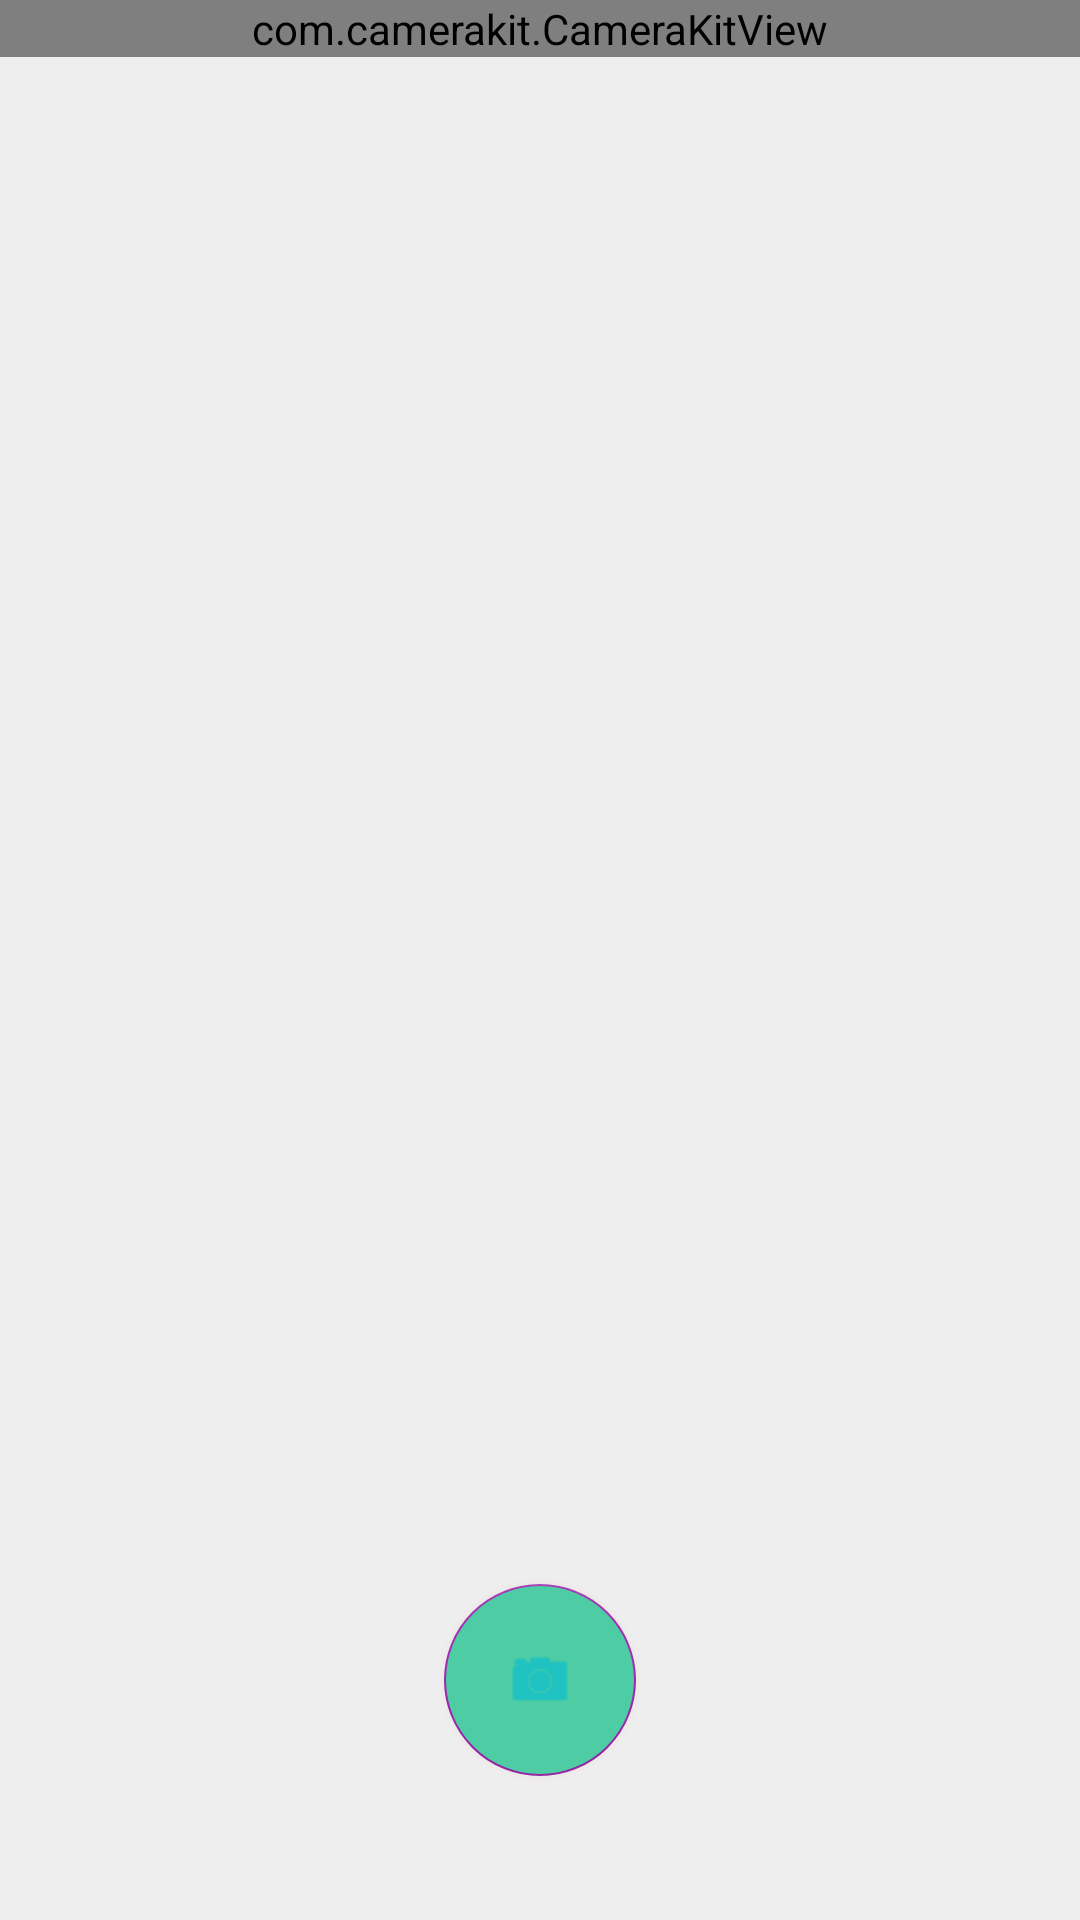

Where icons sit on this 1080px×1920px app screen, as (x1, y1, x2, y2):
camera: (444, 1584, 636, 1776)
